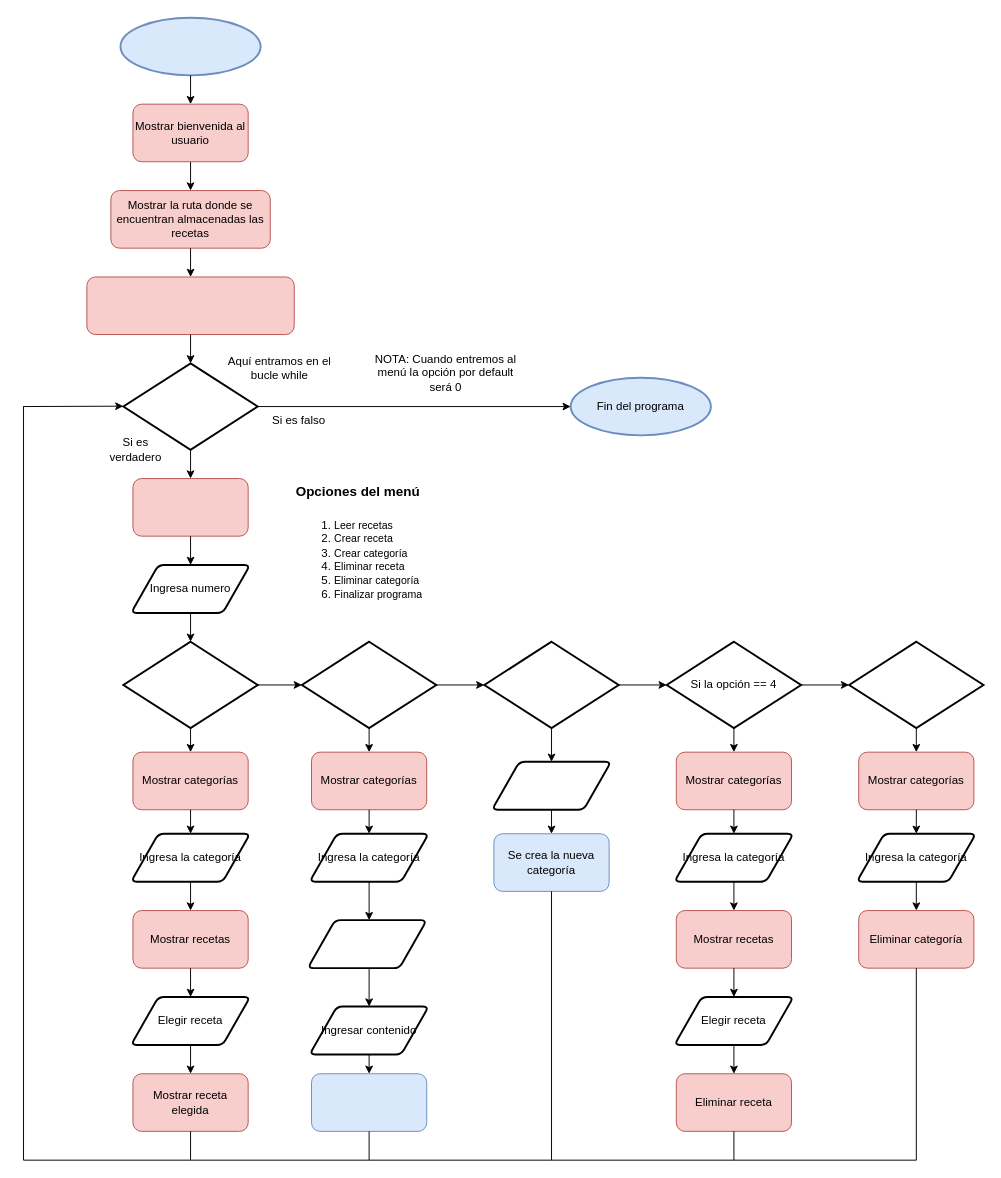
This 1001x1178 diagram has some shape labels left out. Each missing label, with the box of its shape:
Ingresa nombre de la categoría: (491, 760, 612, 810)
Ingresar nombre de la nueva categoría: (306, 919, 427, 969)
Inicio del programa: (119, 16, 261, 76)
Mostrar cuantas recetas (en total) se encuentran almacenadas en la carpeta raiz: (86, 276, 294, 335)
Mostrar menú: (132, 478, 248, 536)
Se crea la nueva receta: (311, 1073, 427, 1131)
Si la opción != 6: (122, 362, 258, 450)
Si la opción == 1: (122, 640, 258, 729)
Si la opción == 2: (300, 640, 437, 729)
Si la opción == 3: (483, 640, 619, 729)
Si la opción == 5: (848, 640, 984, 729)
